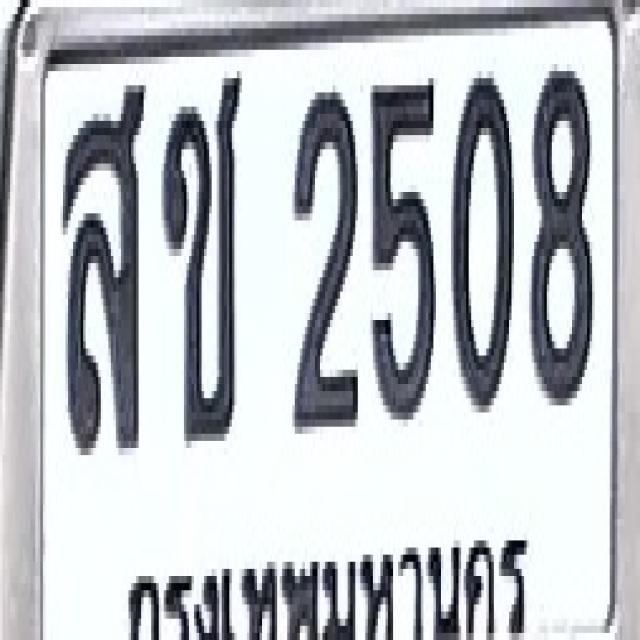-: (61, 74, 146, 452), (161, 64, 242, 441)
0: (451, 67, 514, 409)
2: (290, 82, 358, 430)
5: (370, 71, 436, 420)
8: (529, 60, 592, 402)
